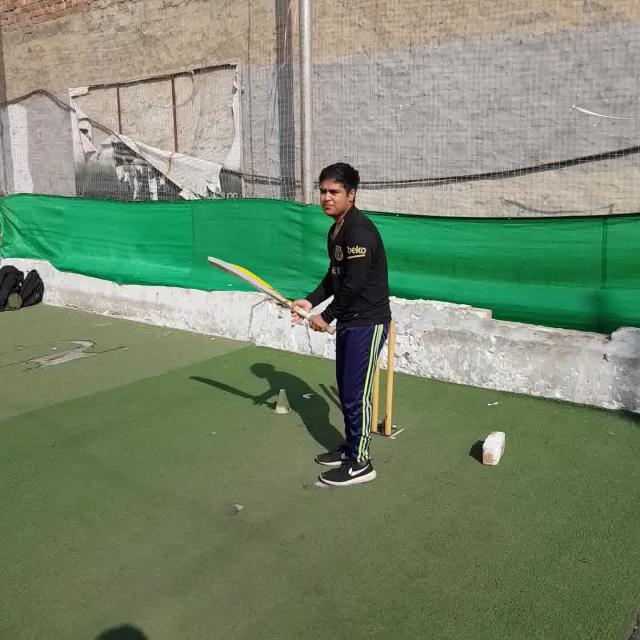bat: (208, 254, 336, 334)
